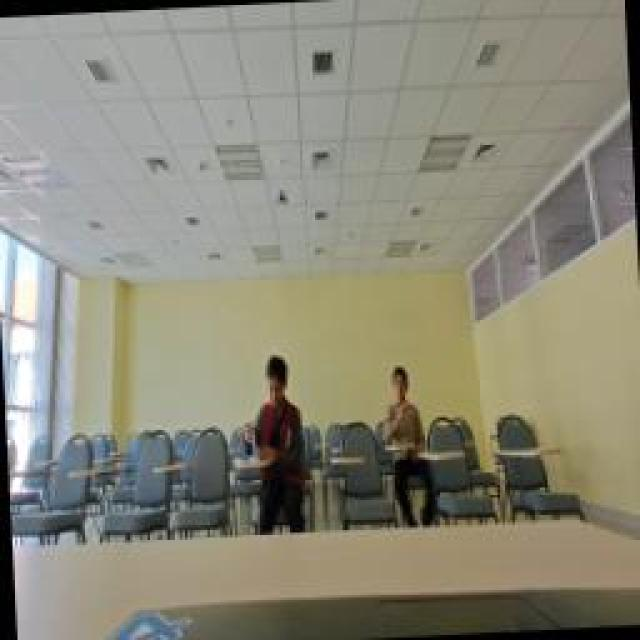study: (237, 353, 305, 465), (380, 365, 428, 447)
